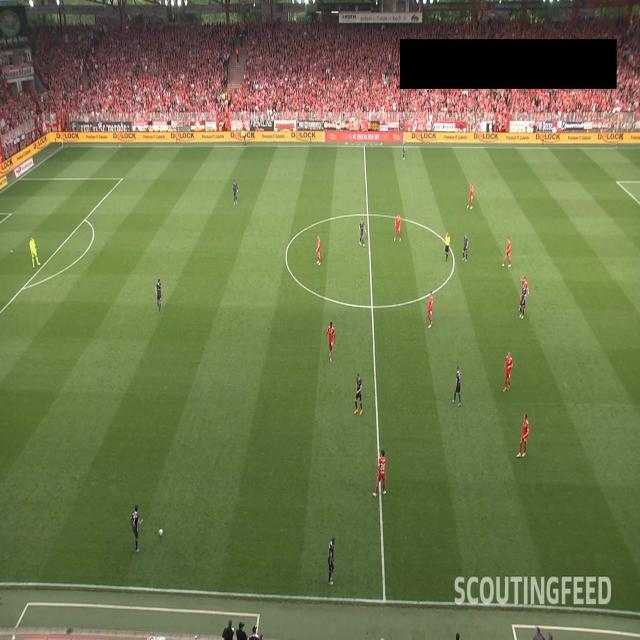ball: (158, 528, 163, 538)
